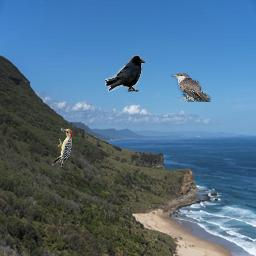Crow: (105, 55, 145, 92)
Cuckoo: (171, 73, 211, 102)
Woodpecker: (51, 127, 74, 167)
